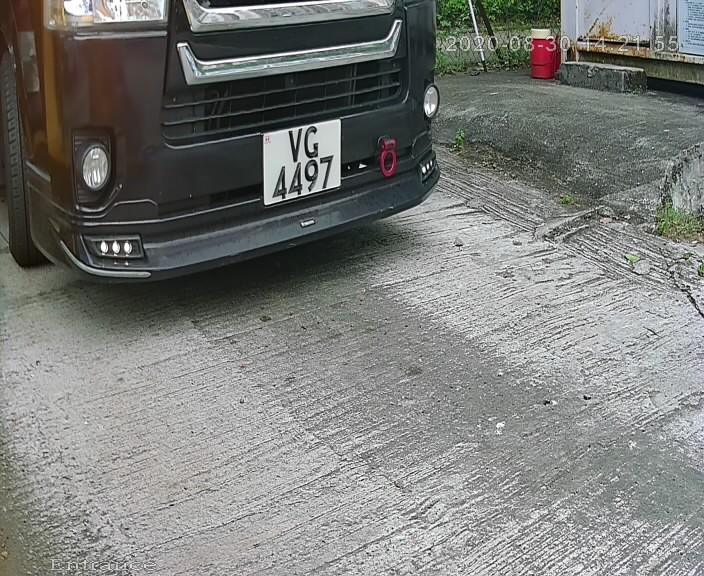License Plate: (255, 106, 349, 211)
